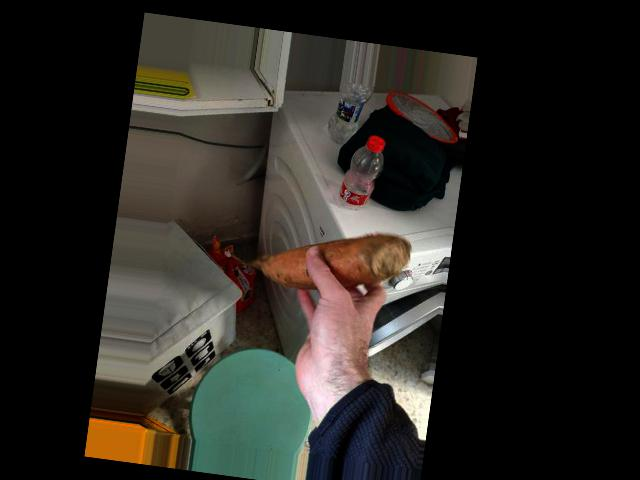sweet_potato: (245, 225, 409, 292)
